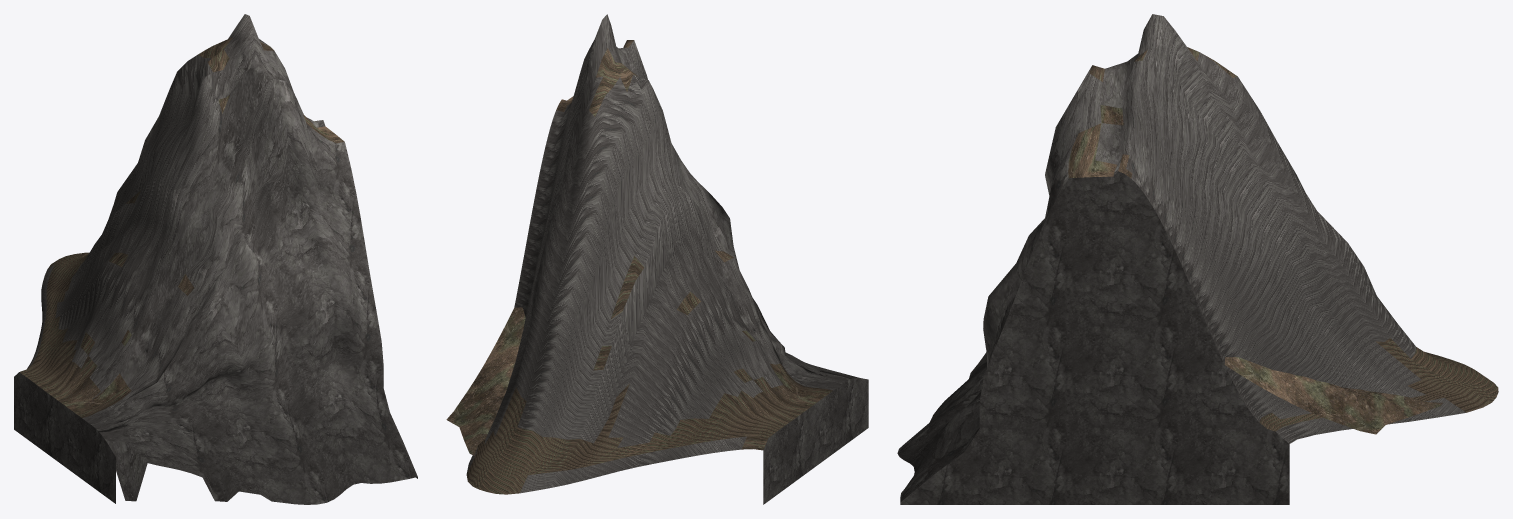
File: seacliff_endcap_left_h5_b_v5_autumn.glb
3 views of the same model, side by side, from view 1: azimuth 30°, elevation 25°; view 2: azimuth 150°, elevation 25°; view 3: azimuth 270°, elevation 25° (orthographic). The views are drawn at different scales.
Visible parts, largest first — view 1: seacliff_endcap_left_h5_b; view 2: seacliff_endcap_left_h5_b; view 3: seacliff_endcap_left_h5_b.
Boxes of the visible parts, left/top/right/bottom form: seacliff_endcap_left_h5_b: left=14, top=14, right=417, bottom=504; seacliff_endcap_left_h5_b: left=446, top=14, right=868, bottom=504; seacliff_endcap_left_h5_b: left=897, top=14, right=1498, bottom=504.
Bounding box in the file's own units: 6 × 9.05 × 10.75.
2 materials, 2 textured.
